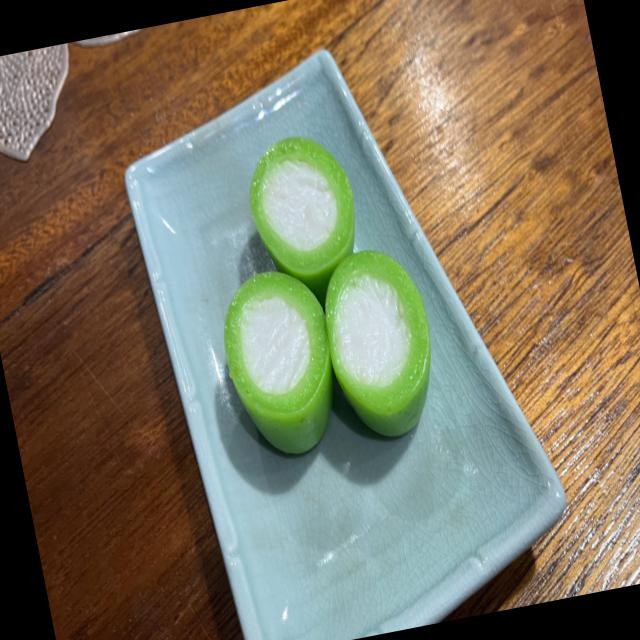nona-manis: (224, 272, 333, 454), (325, 250, 431, 437), (250, 136, 355, 304)
